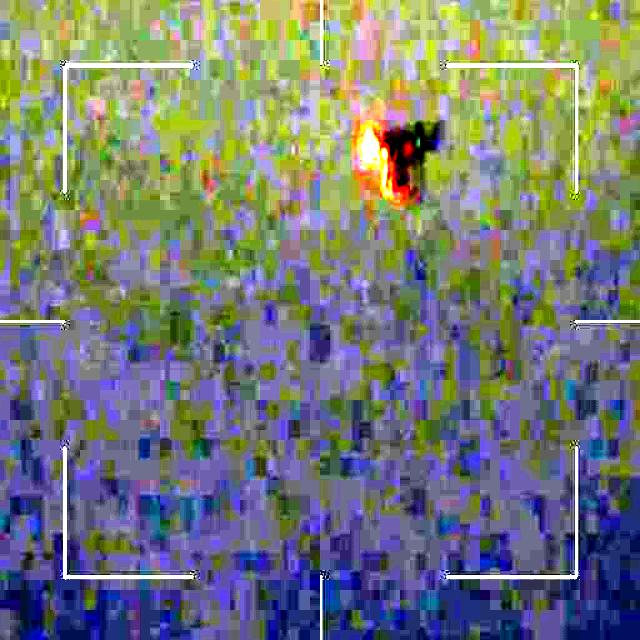bird: (356, 114, 430, 212)
